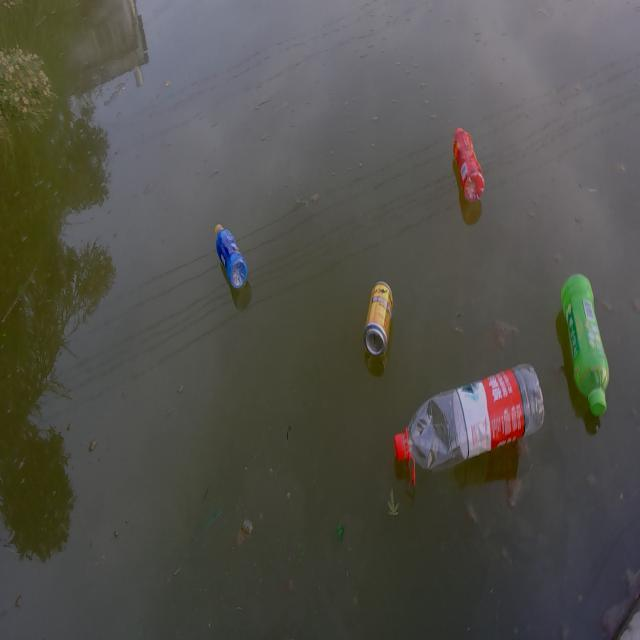bottle: (382, 360, 553, 493), (550, 258, 618, 424), (441, 112, 494, 215), (206, 215, 256, 299)
